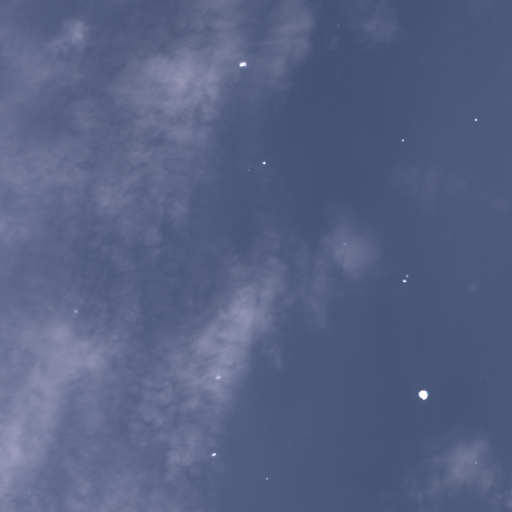Iceberg: (418, 390, 428, 399), (239, 62, 246, 66), (211, 452, 216, 456), (402, 279, 406, 282), (474, 118, 477, 121), (262, 161, 265, 164), (216, 376, 220, 378), (401, 139, 404, 141), (74, 310, 77, 312), (406, 275, 408, 277), (266, 477, 268, 479), (337, 24, 338, 26), (247, 169, 248, 170), (344, 243, 345, 244), (475, 462, 476, 463)
